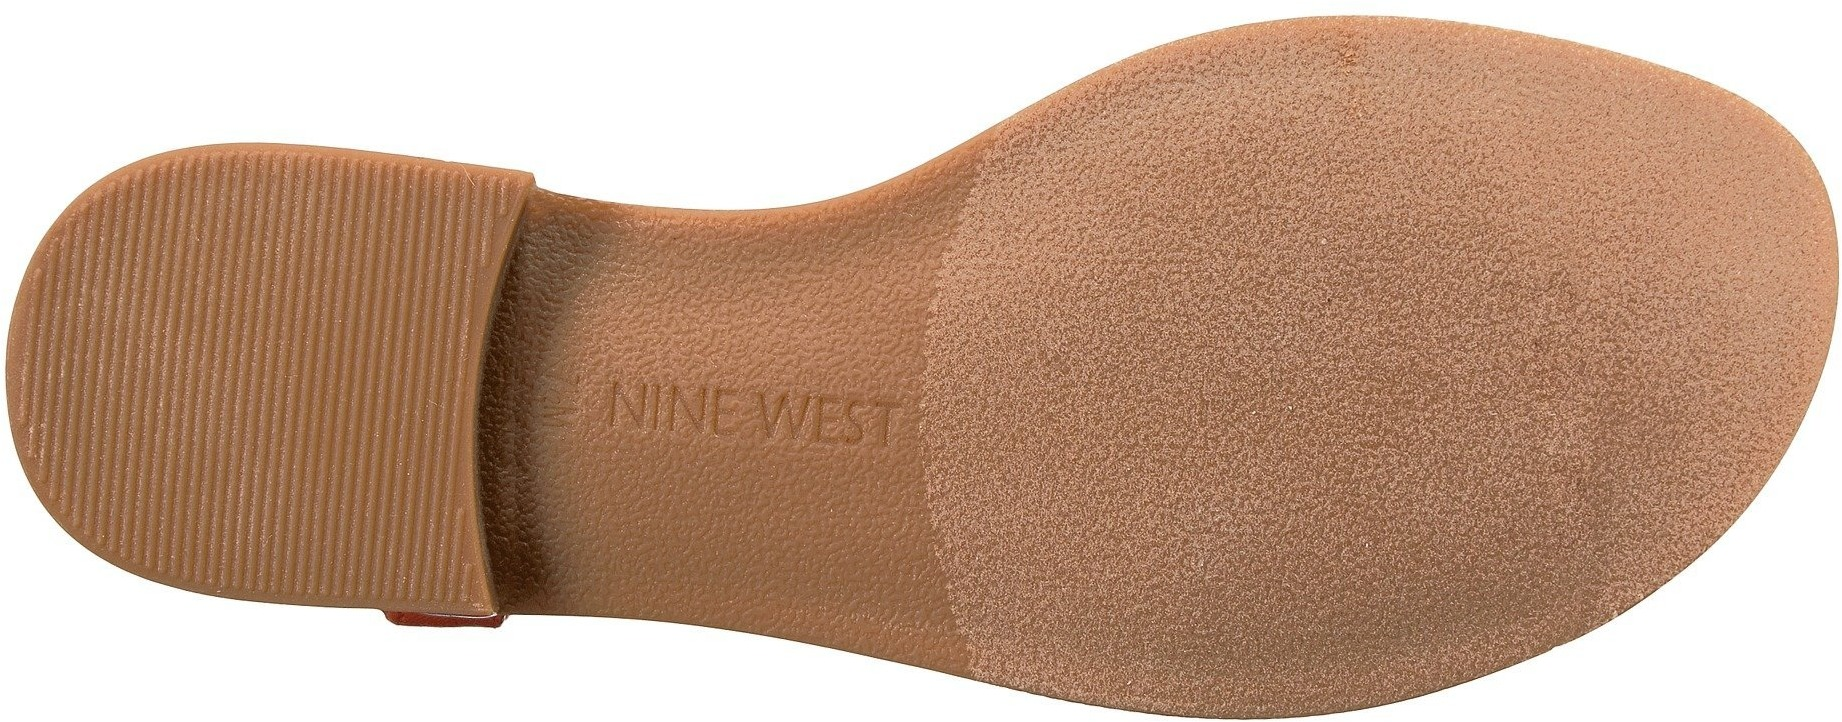exclude: (473, 180, 640, 626), (363, 608, 509, 654)
other: (999, 120, 1569, 627), (1568, 176, 1799, 394), (237, 166, 469, 379), (253, 385, 460, 591), (711, 220, 873, 366), (1567, 391, 1723, 535), (708, 475, 860, 619), (115, 390, 258, 522), (102, 203, 238, 331)
text: (594, 277, 927, 567), (753, 376, 841, 458), (670, 373, 746, 445), (601, 373, 666, 441), (839, 393, 905, 454)
